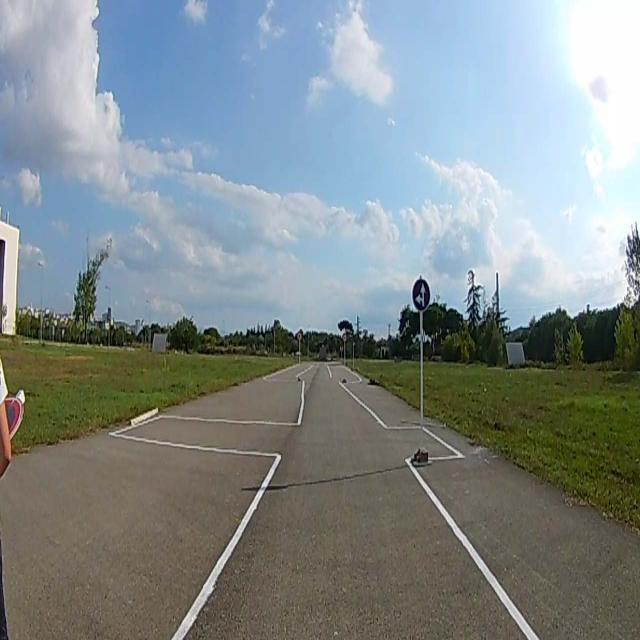ilerisol: (412, 277, 431, 311)
